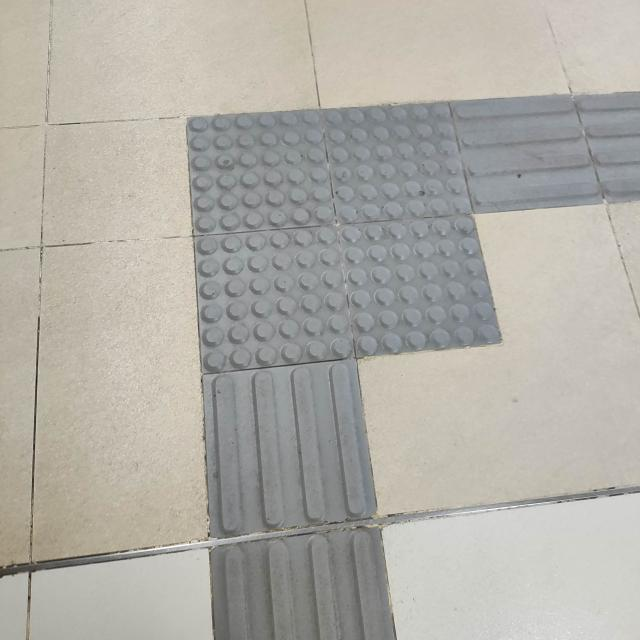kanan: (116, 52, 640, 475)
